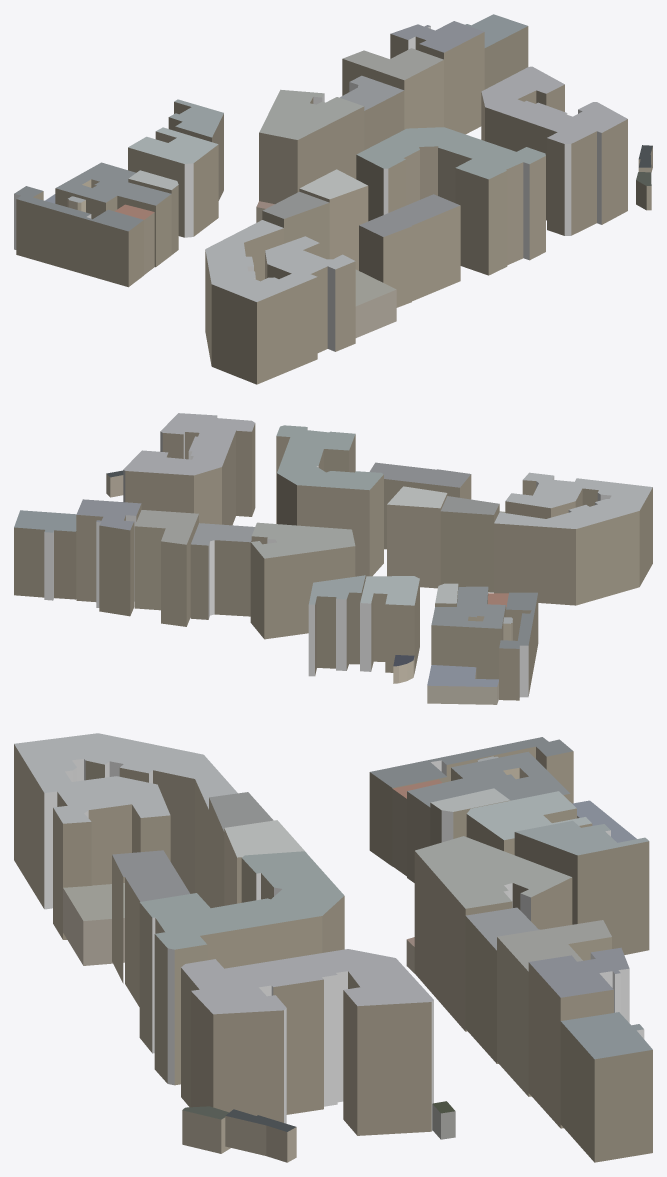
The picture shows the model from 3 angles, top to bottom: view 1: azimuth 30°, elevation 25°; view 2: azimuth 150°, elevation 25°; view 3: azimuth 270°, elevation 25°; orthographic projection. The views are drawn at different scales.
Parts seen in each view (by area): view 1: tuile; view 2: tuile; view 3: tuile.
Boxes of the visible parts, box(x1,y1,x2,y2) form: tuile: box(14, 14, 652, 384); tuile: box(14, 413, 652, 704); tuile: box(14, 733, 652, 1162).
Size of the model in its own units: 152 by 28.84 by 109.
